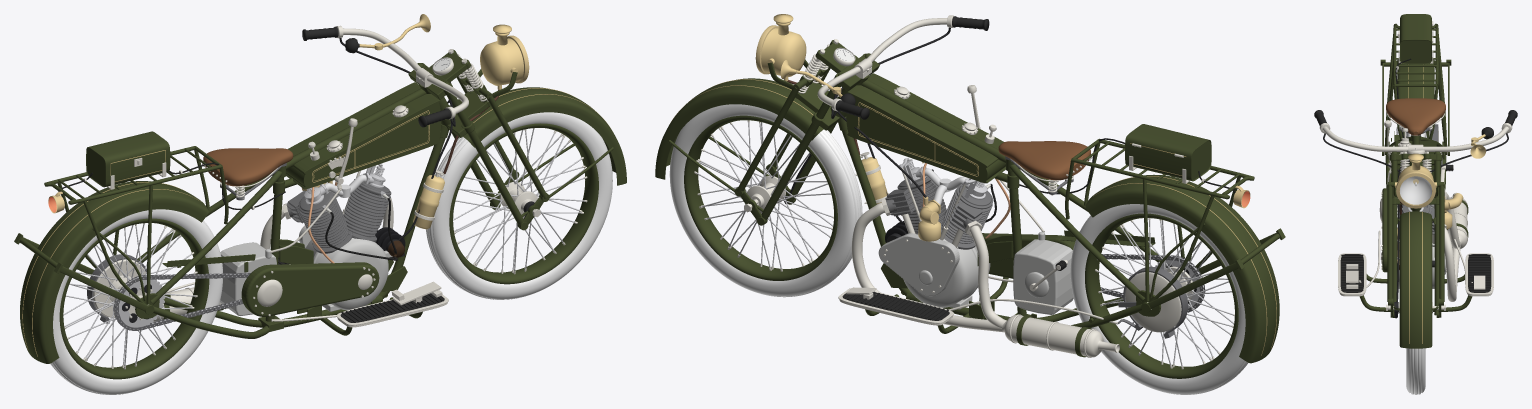
The model's file is bike_vintage_vtwin.glb.
The picture shows the model from 3 angles, left to right: view 1: azimuth 30°, elevation 25°; view 2: azimuth 150°, elevation 25°; view 3: azimuth 270°, elevation 25°; orthographic projection. The views are drawn at different scales.
Parts seen in each view (by area): view 1: frame_body__rear_mudguard, wheels__front_wheel__tyre, frame_body__fuel_tank, frame_body__frame__tubes, wheels__rear_wheel__tyre, transmission__primary_chaincase, powertrain__engine__cylinders, wheels__front_wheel__rim, frame_body__front_mudguard, wheels__rear_wheel__rim, frame_body__toolbox, frame_body__carrier (+30 smaller); view 2: frame_body__rear_mudguard, wheels__front_wheel__tyre, frame_body__fuel_tank, frame_body__frame__tubes, wheels__rear_wheel__tyre, wheels__front_wheel__rim, frame_body__front_mudguard, wheels__rear_wheel__rim, transmission__gearbox__shell, frame_body__toolbox, wheels__front_wheel__spokes, frame_body__carrier (+31 smaller); view 3: frame_body__front_mudguard, frame_body__carrier, chassis__front_fork__rigid_legs, frame_body__toolbox, frame_body__seat, chassis__front_fork__sprung_legs, chassis__footboards__mats, frame_body__rear_mudguard, powertrain__exhaust__pipes, chassis__handlebar__bar, wheels__front_wheel__tyre, chassis__footboards (+20 smaller).
Part boxes in pixels (x1=…): frame_body__rear_mudguard: x1=20, y1=181, x2=208, y2=363; wheels__front_wheel__tyre: x1=426, y1=112, x2=612, y2=299; frame_body__fuel_tank: x1=286, y1=82, x2=441, y2=189; frame_body__frame__tubes: x1=136, y1=88, x2=445, y2=338; wheels__rear_wheel__tyre: x1=50, y1=209, x2=222, y2=394; transmission__primary_chaincase: x1=241, y1=262, x2=379, y2=316; powertrain__engine__cylinders: x1=286, y1=179, x2=391, y2=253; wheels__front_wheel__rim: x1=449, y1=123, x2=598, y2=284; frame_body__front_mudguard: x1=463, y1=87, x2=626, y2=185; wheels__rear_wheel__rim: x1=59, y1=218, x2=209, y2=379; frame_body__toolbox: x1=86, y1=131, x2=170, y2=187; frame_body__carrier: x1=44, y1=146, x2=228, y2=304; frame_body__rear_mudguard: x1=1085, y1=174, x2=1279, y2=363; wheels__front_wheel__tyre: x1=669, y1=104, x2=862, y2=297; frame_body__fuel_tank: x1=846, y1=73, x2=1005, y2=183; frame_body__frame__tubes: x1=842, y1=79, x2=1160, y2=327; wheels__rear_wheel__tyre: x1=1070, y1=204, x2=1248, y2=394; wheels__front_wheel__rim: x1=684, y1=115, x2=837, y2=280; frame_body__front_mudguard: x1=655, y1=78, x2=823, y2=179; wheels__rear_wheel__rim: x1=1085, y1=213, x2=1238, y2=378; transmission__gearbox__shell: x1=1013, y1=231, x2=1073, y2=314; frame_body__toolbox: x1=1125, y1=124, x2=1211, y2=181; wheels__front_wheel__spokes: x1=697, y1=122, x2=833, y2=268; frame_body__carrier: x1=1065, y1=138, x2=1254, y2=302; frame_body__front_mudguard: x1=1399, y1=211, x2=1432, y2=348; frame_body__carrier: x1=1384, y1=23, x2=1447, y2=154; chassis__front_fork__rigid_legs: x1=1391, y1=151, x2=1440, y2=317; frame_body__toolbox: x1=1400, y1=14, x2=1431, y2=64; frame_body__seat: x1=1386, y1=98, x2=1445, y2=135; chassis__front_fork__sprung_legs: x1=1387, y1=182, x2=1444, y2=305; chassis__footboards__mats: x1=1340, y1=254, x2=1491, y2=292; frame_body__rear_mudguard: x1=1397, y1=57, x2=1434, y2=138; powertrain__exhaust__pipes: x1=1444, y1=193, x2=1460, y2=301; chassis__handlebar__bar: x1=1322, y1=126, x2=1509, y2=151; wheels__front_wheel__tyre: x1=1406, y1=348, x2=1425, y2=394; chassis__footboards: x1=1338, y1=253, x2=1493, y2=296.
Bounding box in the file's own units: 230 × 101 × 83.18.
